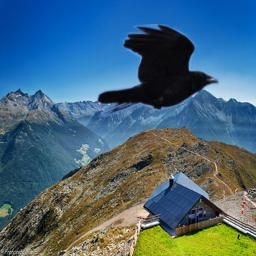Crow: (97, 24, 219, 117)
